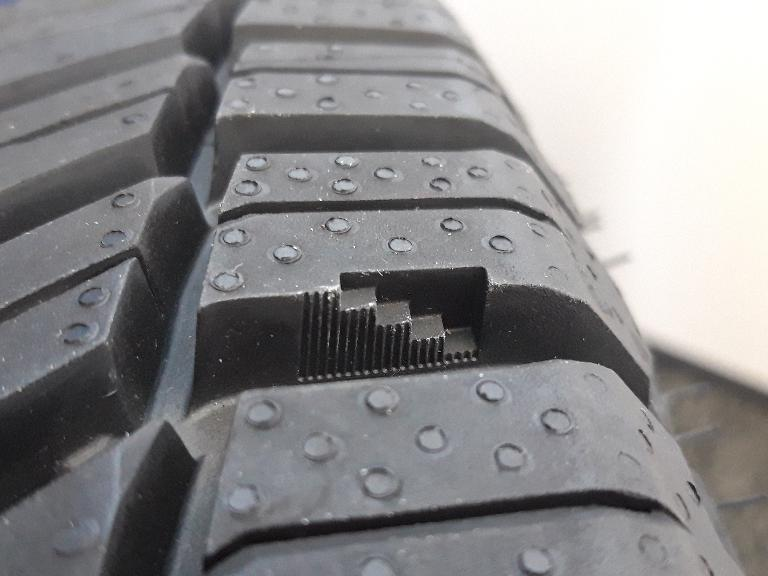temoin:100: (290, 256, 502, 392)
